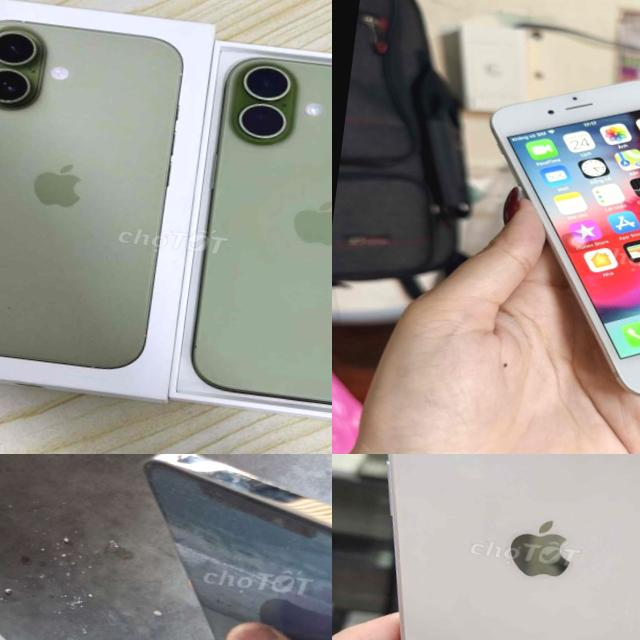gen_12_13: (332, 454, 640, 640), (116, 454, 332, 640)
gen_17: (191, 58, 332, 403)
gen_6: (457, 49, 640, 412)
